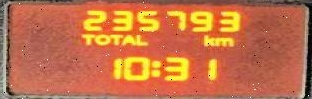0: (123, 56, 150, 80)
1: (201, 56, 219, 80), (105, 55, 121, 80)
2: (80, 8, 105, 31)
3: (161, 54, 189, 81), (108, 8, 134, 31), (217, 10, 241, 32)
5: (135, 8, 159, 31)
7: (162, 8, 185, 31)
9: (190, 9, 214, 31)
X: (78, 31, 94, 45), (212, 36, 232, 47), (150, 58, 160, 77), (94, 32, 108, 45), (134, 32, 147, 45), (121, 32, 134, 45), (108, 32, 121, 45), (200, 34, 214, 46)
